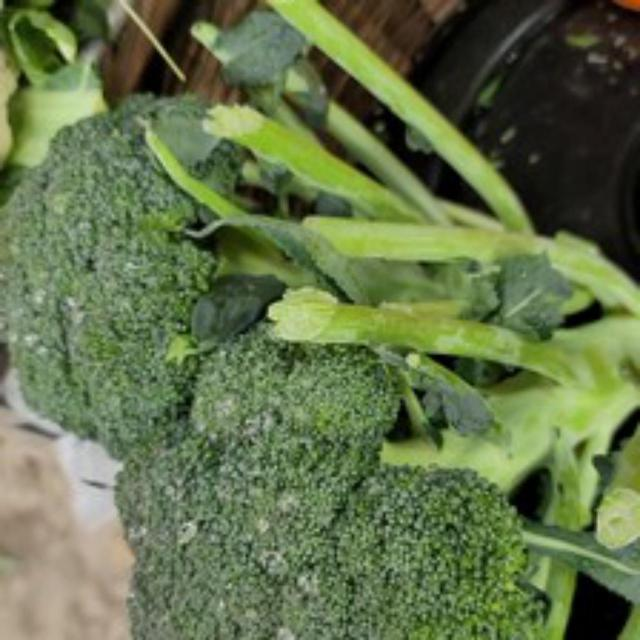broccoli: (103, 274, 637, 637)
